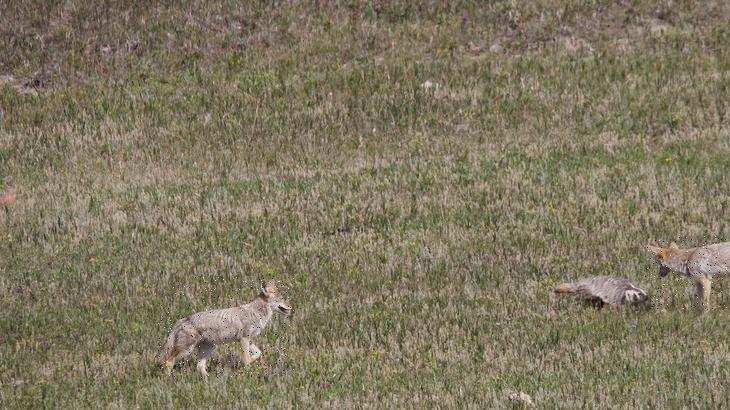Coyote: (158, 277, 295, 379), (645, 236, 730, 311)
